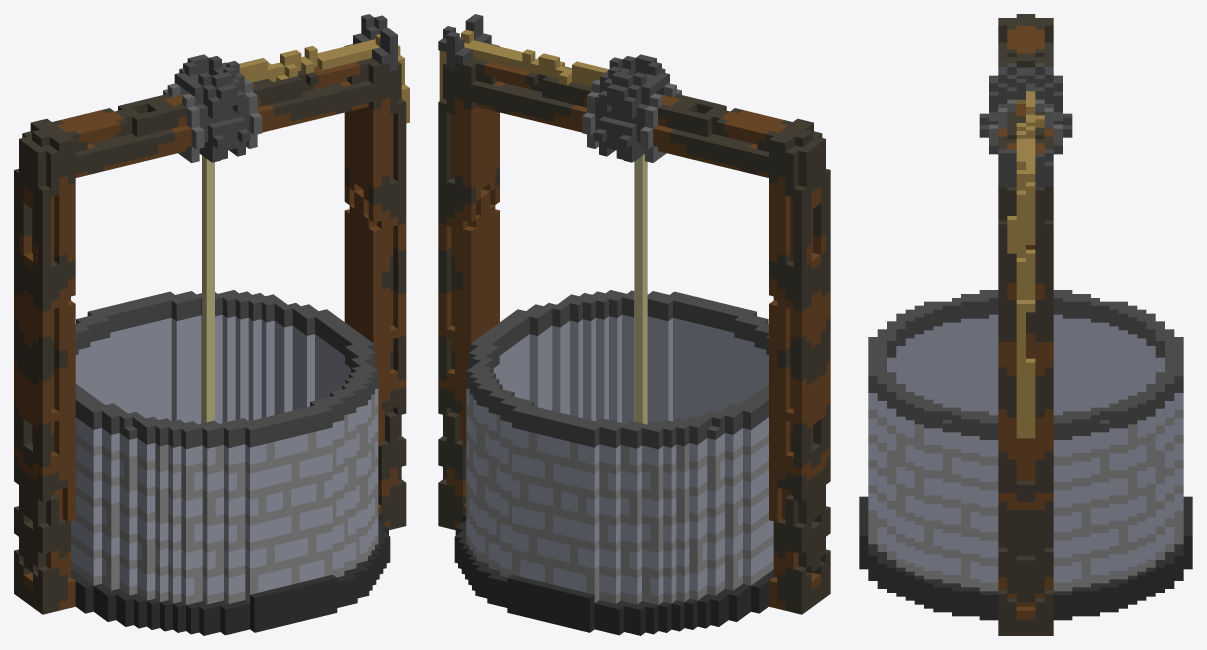
File: Medieval Assets-253-Decoration - Well.obj
3 views of the same model, side by side, from view 1: azimuth 30°, elevation 25°; view 2: azimuth 150°, elevation 25°; view 3: azimuth 270°, elevation 25° (orthographic). The views are drawn at different scales.
Parts seen in each view (by area): view 1: Decoration - Well; view 2: Decoration - Well; view 3: Decoration - Well.
Boxes of the visible parts, bbox=[...] form: Decoration - Well: bbox=[14, 14, 409, 635]; Decoration - Well: bbox=[438, 14, 830, 635]; Decoration - Well: bbox=[859, 14, 1192, 635].
Bounding box in the file's own units: 4.5 × 5.7 × 3.6.
1 material, 1 textured.
